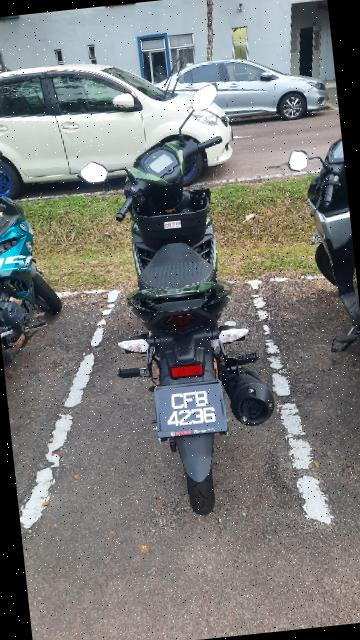License_Plate: (150, 374, 233, 442)
car: (1, 31, 244, 204), (147, 39, 336, 136)
motorcycle: (63, 71, 306, 527)
